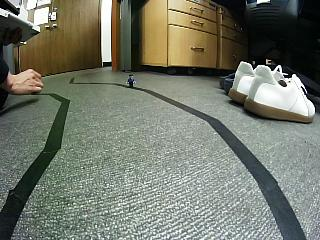person: (126, 74, 137, 88)
